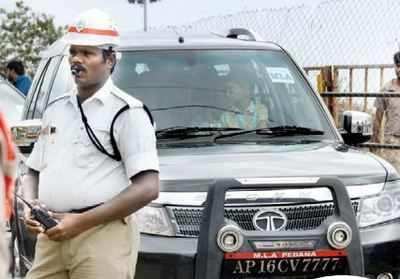number_plate: (222, 248, 353, 279)
